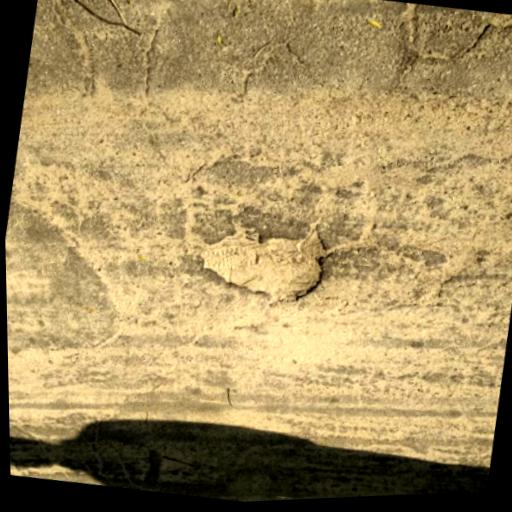pothole: (189, 206, 338, 320)
